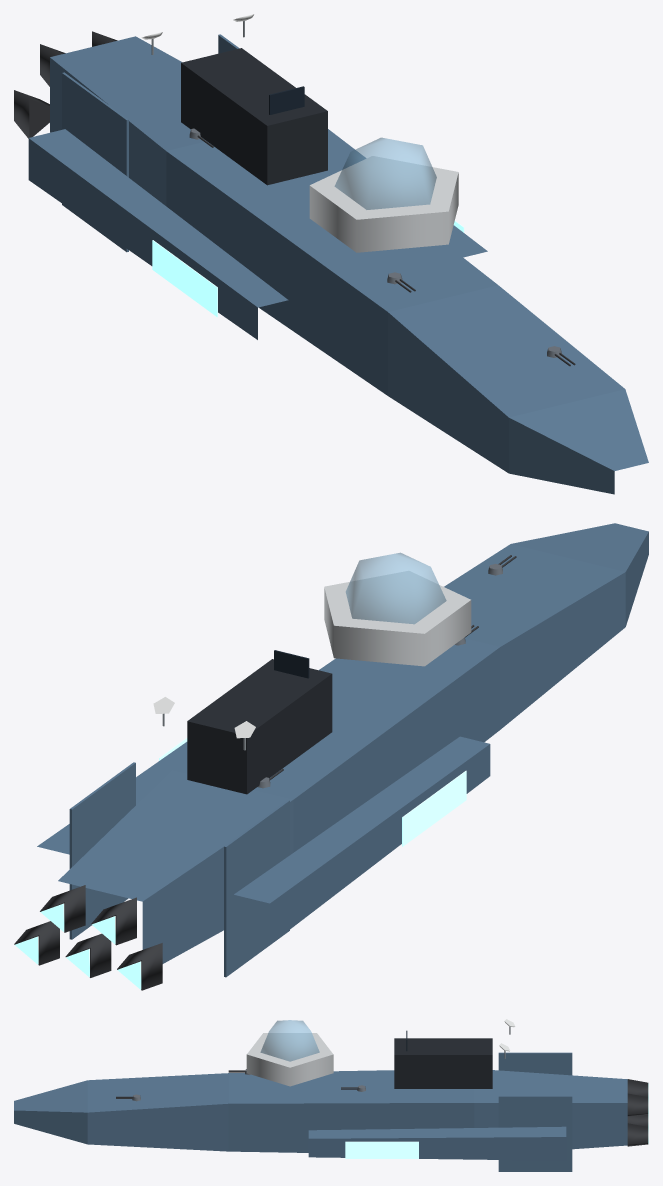
File: space_ship_command_ship_mk5_lod2.glb
The picture shows the model from 3 angles, top to bottom: view 1: azimuth 30°, elevation 25°; view 2: azimuth 150°, elevation 25°; view 3: azimuth 270°, elevation 25°; orthographic projection. The views are drawn at different scales.
Parts seen in each view (by area): view 1: body, hangar_r, engine_0; view 2: body, hangar_r, engine_3, engine_0, engine_1, engine_2, engine_4; view 3: body, hangar_l, engine_4, engine_3, engine_1.
Part boxes in pixels (<box>): body: <box>28,34,648,494</box>; hangar_r: <box>152,240,217,317</box>; engine_0: <box>14,90,49,138</box>; body: <box>37,523,648,977</box>; hangar_r: <box>402,770,466,846</box>; engine_3: <box>40,885,85,932</box>; engine_0: <box>117,943,162,990</box>; engine_1: <box>91,897,136,945</box>; engine_2: <box>65,933,111,977</box>; engine_4: <box>14,921,59,965</box>; body: <box>14,1020,627,1171</box>; hangar_l: <box>345,1141,418,1158</box>; engine_4: <box>627,1123,648,1146</box>; engine_3: <box>627,1093,648,1116</box>; engine_1: <box>627,1079,648,1097</box>.
Size of the model in its own units: 31.34 by 27.65 by 123.
